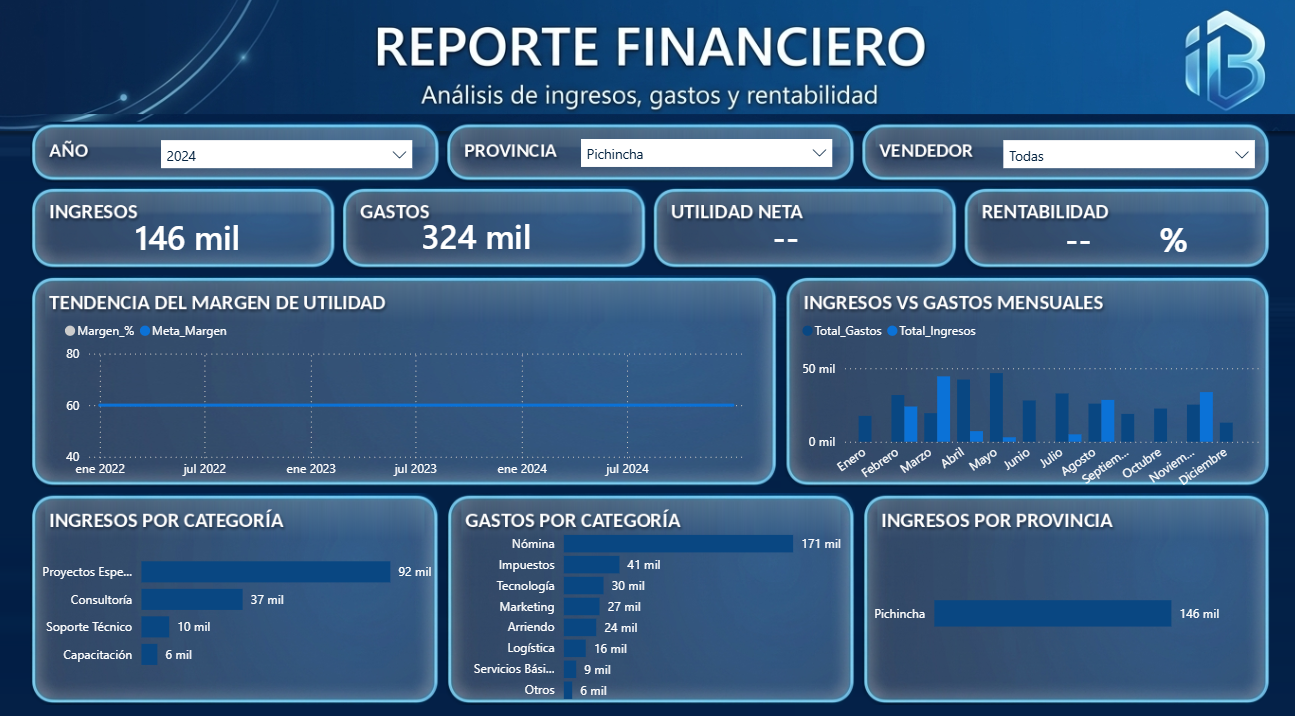

Layout of this report page (visuals, bound fields, positions):
{"tool":"powerbi","page":{"name":"Página 1","canvas":[1280,720],"ordinal":0},"visuals":[{"type":"cardVisual","title":"INGRESOS","fields":{"Data":["Gastos.Total_Ingresos"]},"box":[105,205,215,70],"z":0},{"type":"cardVisual","title":" GASTOS","fields":{"Data":["Gastos.Total_Gastos"]},"box":[386.7,196.7,215.7,85.7],"z":1000},{"type":"cardVisual","title":"UTILIDAD NETA","fields":{"Data":["Gastos.Utilidad_Neta"]},"box":[731.7,191.7,192.9,95.7],"z":2000},{"type":"cardVisual","title":"MARGEN DE RENTABILIDAD","fields":{"Data":["Gastos.Margen_%"]},"box":[1018.3,193.3,190,95.7],"z":3000},{"type":"clusteredColumnChart","title":"INGRESOS VS GASTOS MENSUALES","fields":{"Category":["Resumen_Mensual.Mes"],"Y":["Gastos.Total_Gastos","Gastos.Total_Ingresos"]},"box":[784.5,314.1,459.2,184.5],"z":4000},{"type":"clusteredBarChart","title":"GASTOS POR CATEGORÍA","fields":{"Category":["Gastos.Categoría"],"Y":["Gastos.Total_Gastos"]},"box":[446.5,512.7,385.9,195.8],"z":5000},{"type":"clusteredBarChart","title":"INGRESOS POR CATEGORÍA","fields":{"Category":["Ingresos.Categoría"],"Y":["Gastos.Total_Ingresos"]},"box":[26.8,536.6,404.2,142.3],"z":6000},{"type":"lineChart","title":"TENDENCIA DEL MARGEN DE UTILIDAD ","fields":{"Category":["Resumen_Mensual.Fecha_Mes.Variation.Jerarquía de fechas.Año","Resumen_Mensual.Fecha_Mes.Variation.Jerarquía de fechas.Trimestre","Resumen_Mensual.Fecha_Mes.Variation.Jerarquía de fechas.Mes","Resumen_Mensual.Fecha_Mes.Variation.Jerarquía de fechas.Día"],"Y":["Gastos.Margen_%","Gastos.Meta_Margen"]},"box":[60.6,314.1,687.3,173.2],"z":7000},{"type":"slicer","title":"AÑO","fields":{"Values":["Resumen_Mensual.Año"]},"box":[150,136.7,266.7,45],"z":8000},{"type":"slicer","title":"PROVINCIA","fields":{"Values":["Ingresos.Región"]},"box":[561.7,135,266.7,50],"z":9000},{"type":"slicer","title":"VENDEDOR","fields":{"Values":["Ingresos.Vendedor"]},"box":[976.7,136.7,266.7,53.3],"z":10000},{"type":"clusteredBarChart","title":"INGRESOS POR PROVINCIA","fields":{"Category":["Ingresos.Provincia "],"Y":["Gastos.Total_Ingresos"]},"box":[850.7,538,393,140.8],"z":11000},{"type":"textbox","box":[1135,216.7,80,60],"z":12000}]}

Visuals, with their boxes in screenshot pixels (x1, y1, x2, y2), scaled from the page's 1280x720 canvas onto the 1295x716 screenshot:
"INGRESOS" cardVisual: x1=106, y1=204, x2=324, y2=273
" GASTOS" cardVisual: x1=391, y1=196, x2=609, y2=281
"UTILIDAD NETA" cardVisual: x1=740, y1=191, x2=935, y2=286
"MARGEN DE RENTABILIDAD" cardVisual: x1=1030, y1=192, x2=1222, y2=287
"INGRESOS VS GASTOS MENSUALES" clusteredColumnChart: x1=794, y1=312, x2=1258, y2=496
"GASTOS POR CATEGORÍA" clusteredBarChart: x1=452, y1=510, x2=842, y2=705
"INGRESOS POR CATEGORÍA" clusteredBarChart: x1=27, y1=534, x2=436, y2=675
"TENDENCIA DEL MARGEN DE UTILIDAD " lineChart: x1=61, y1=312, x2=757, y2=485
"AÑO" slicer: x1=152, y1=136, x2=422, y2=181
"PROVINCIA" slicer: x1=568, y1=134, x2=838, y2=184
"VENDEDOR" slicer: x1=988, y1=136, x2=1258, y2=189
"INGRESOS POR PROVINCIA" clusteredBarChart: x1=861, y1=535, x2=1258, y2=675
textbox: x1=1148, y1=215, x2=1229, y2=275
